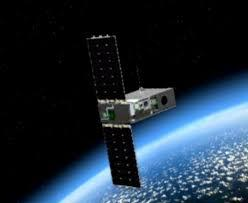body: (97, 85, 179, 126)
solar: (85, 33, 128, 102), (101, 122, 145, 189)
